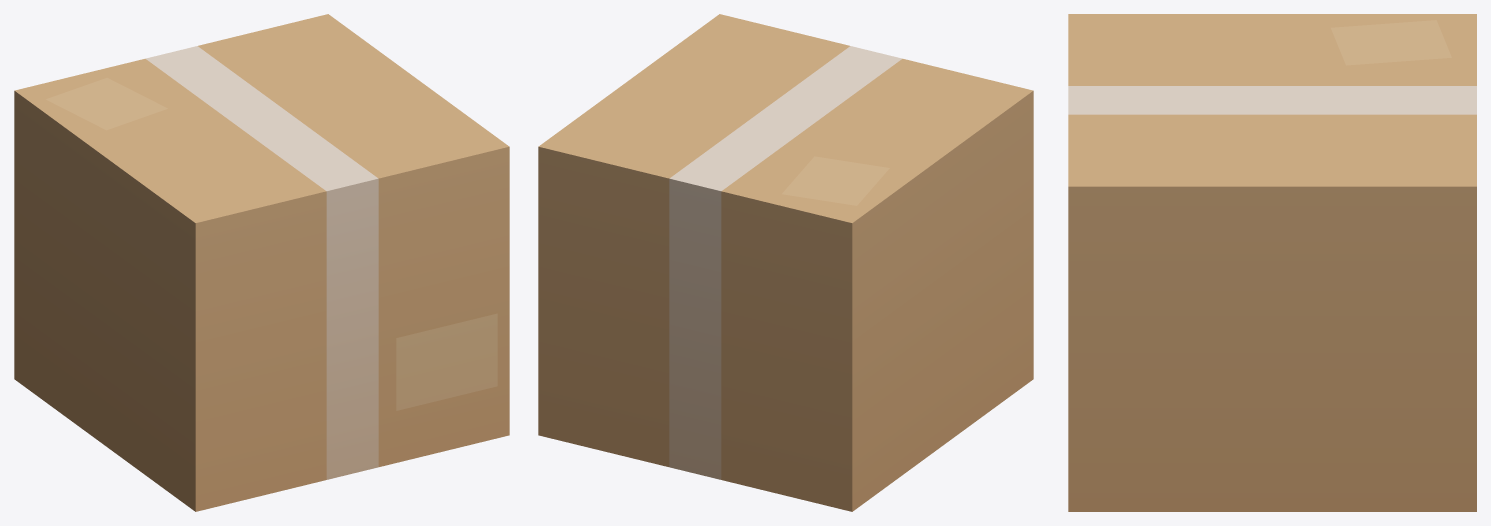
3 renders of one model, left to right at view 1: azimuth 30°, elevation 25°; view 2: azimuth 150°, elevation 25°; view 3: azimuth 270°, elevation 25°, orthographic. The views are drawn at different scales.
Parts seen in each view (by area): view 1: box_A; view 2: box_A; view 3: box_A.
Part boxes in pixels (x1=…): box_A: x1=14, y1=14, x2=509, y2=511; box_A: x1=538, y1=14, x2=1033, y2=511; box_A: x1=1068, y1=14, x2=1476, y2=511.
Bounding box in the file's own units: 0.2 × 0.1764 × 0.2031.
